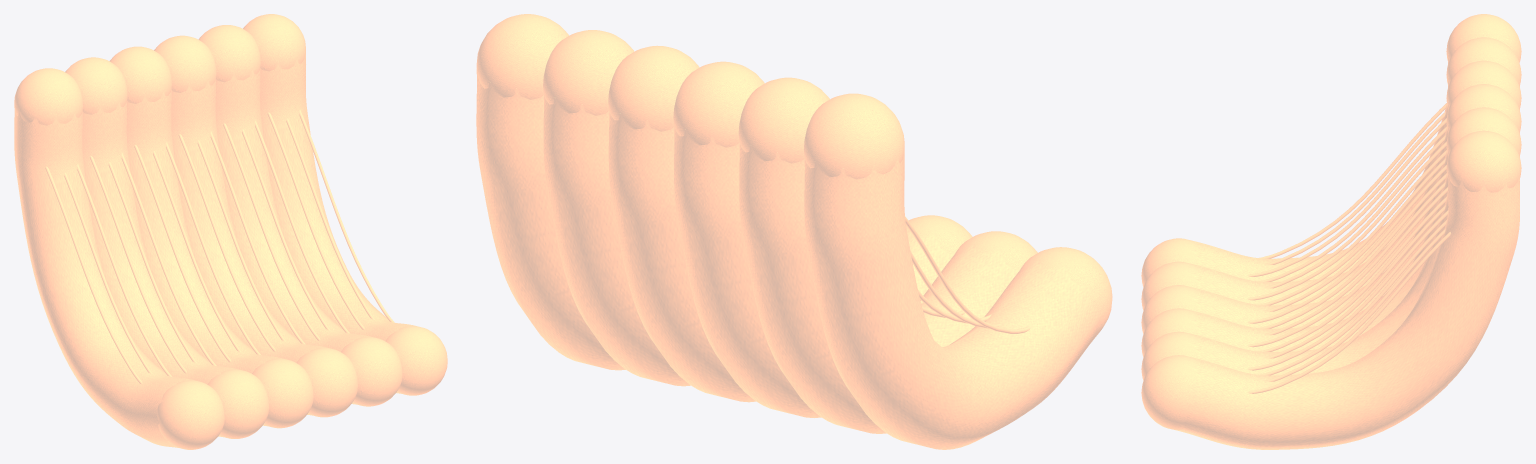
Rendered from ref05_11.glb.
3 views of the same model, side by side, from view 1: azimuth 30°, elevation 25°; view 2: azimuth 150°, elevation 25°; view 3: azimuth 270°, elevation 25° (orthographic). The views are drawn at different scales.
Visible parts, largest first — view 1: ref05_11; view 2: ref05_11; view 3: ref05_11.
Boxes of the visible parts, x1,y1,x2,y2 form: ref05_11: [14, 14, 447, 449]; ref05_11: [476, 14, 1112, 449]; ref05_11: [1141, 14, 1521, 449].
Size of the model in its own units: 0.795 by 0.7758 by 0.86.
Materials: 1 (1 with a texture image).
